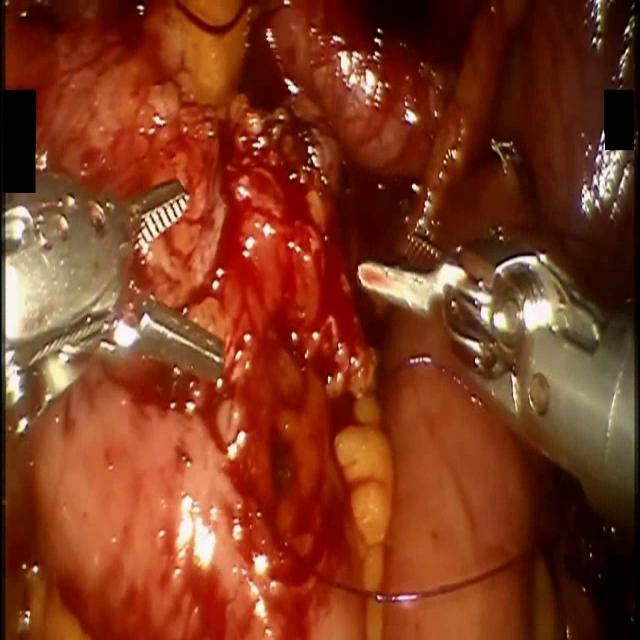surgical-area: (0, 1, 640, 639)
surgical-tool: (356, 230, 640, 555), (0, 161, 225, 442)
